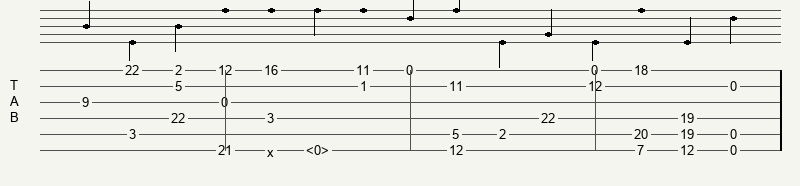0: (221, 95, 232, 109), (406, 63, 417, 77), (591, 63, 602, 77), (730, 143, 741, 157), (730, 127, 741, 141), (730, 79, 741, 93)
1: (360, 79, 371, 93)
11: (356, 63, 374, 77), (449, 79, 467, 93)
12: (218, 63, 236, 77), (449, 143, 467, 157), (588, 79, 606, 93), (680, 143, 698, 157)
16: (264, 63, 282, 77)
18: (634, 63, 652, 77)
19: (680, 127, 698, 141), (680, 111, 698, 125)
2: (175, 63, 186, 77), (499, 127, 510, 141)
20: (634, 127, 652, 141)
21: (218, 143, 236, 157)
22: (125, 63, 143, 77), (171, 111, 189, 125), (541, 111, 559, 125)
3: (129, 127, 140, 141), (267, 111, 278, 125)
5: (175, 79, 186, 93), (452, 127, 463, 141)
7: (637, 143, 648, 157)
9: (82, 95, 93, 109)
harmonic: (306, 143, 333, 157)
x: (267, 145, 278, 156)
